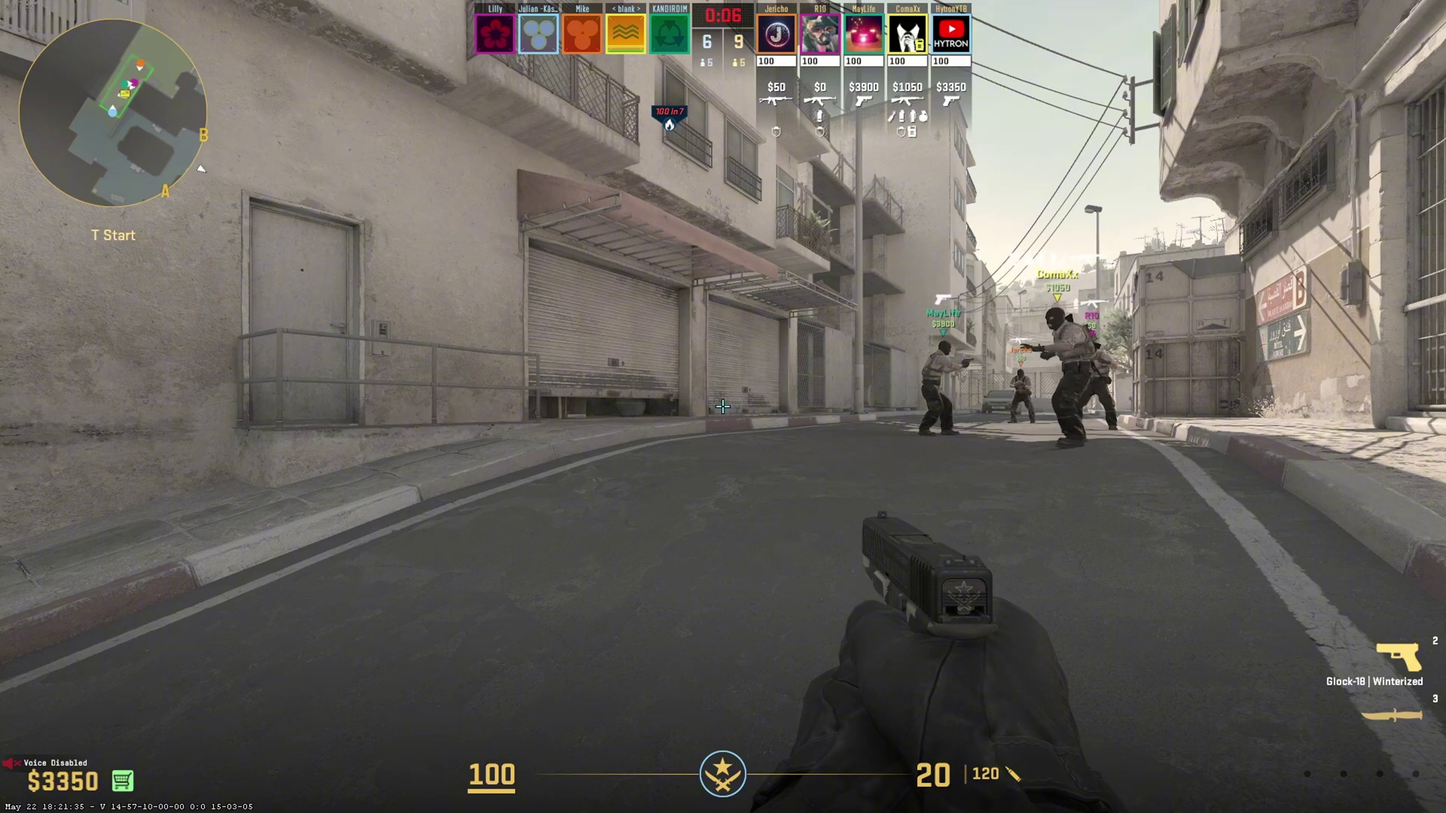Terrorist: (1044, 307, 1085, 447), (917, 341, 959, 436), (1088, 341, 1119, 431), (1009, 369, 1035, 425)
